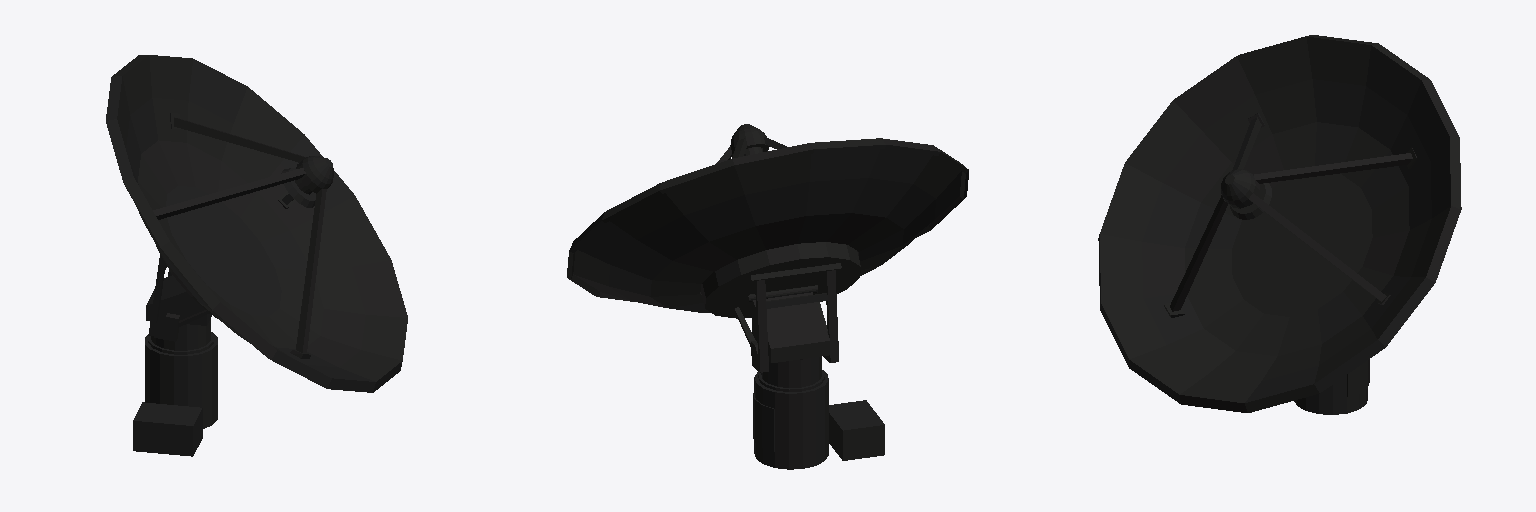
Rendered from radioDish.obj.
The picture shows the model from 3 angles: view 1: azimuth 30°, elevation 25°; view 2: azimuth 150°, elevation 25°; view 3: azimuth 270°, elevation 25°; orthographic projection.
Parts seen in each view (by area): view 1: radio_dish_Mesh; view 2: radio_dish_Mesh; view 3: radio_dish_Mesh.
Part boxes in pixels (bbox=[...]): radio_dish_Mesh: bbox=[106, 55, 407, 456]; radio_dish_Mesh: bbox=[567, 124, 968, 469]; radio_dish_Mesh: bbox=[1098, 35, 1461, 414].
Bounding box in the file's own units: 7.87 × 8.25 × 8.08.